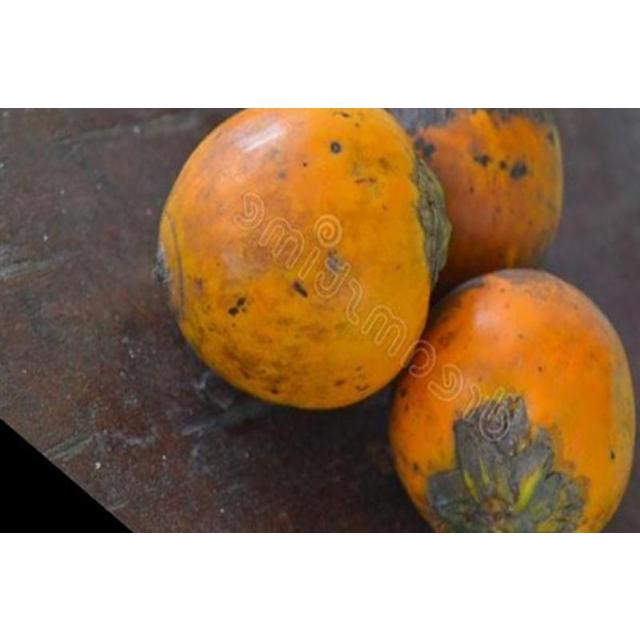good: (158, 107, 450, 408), (389, 269, 634, 532), (414, 107, 562, 285)
